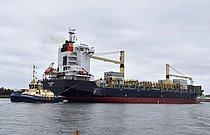Ship: (41, 25, 206, 110)
